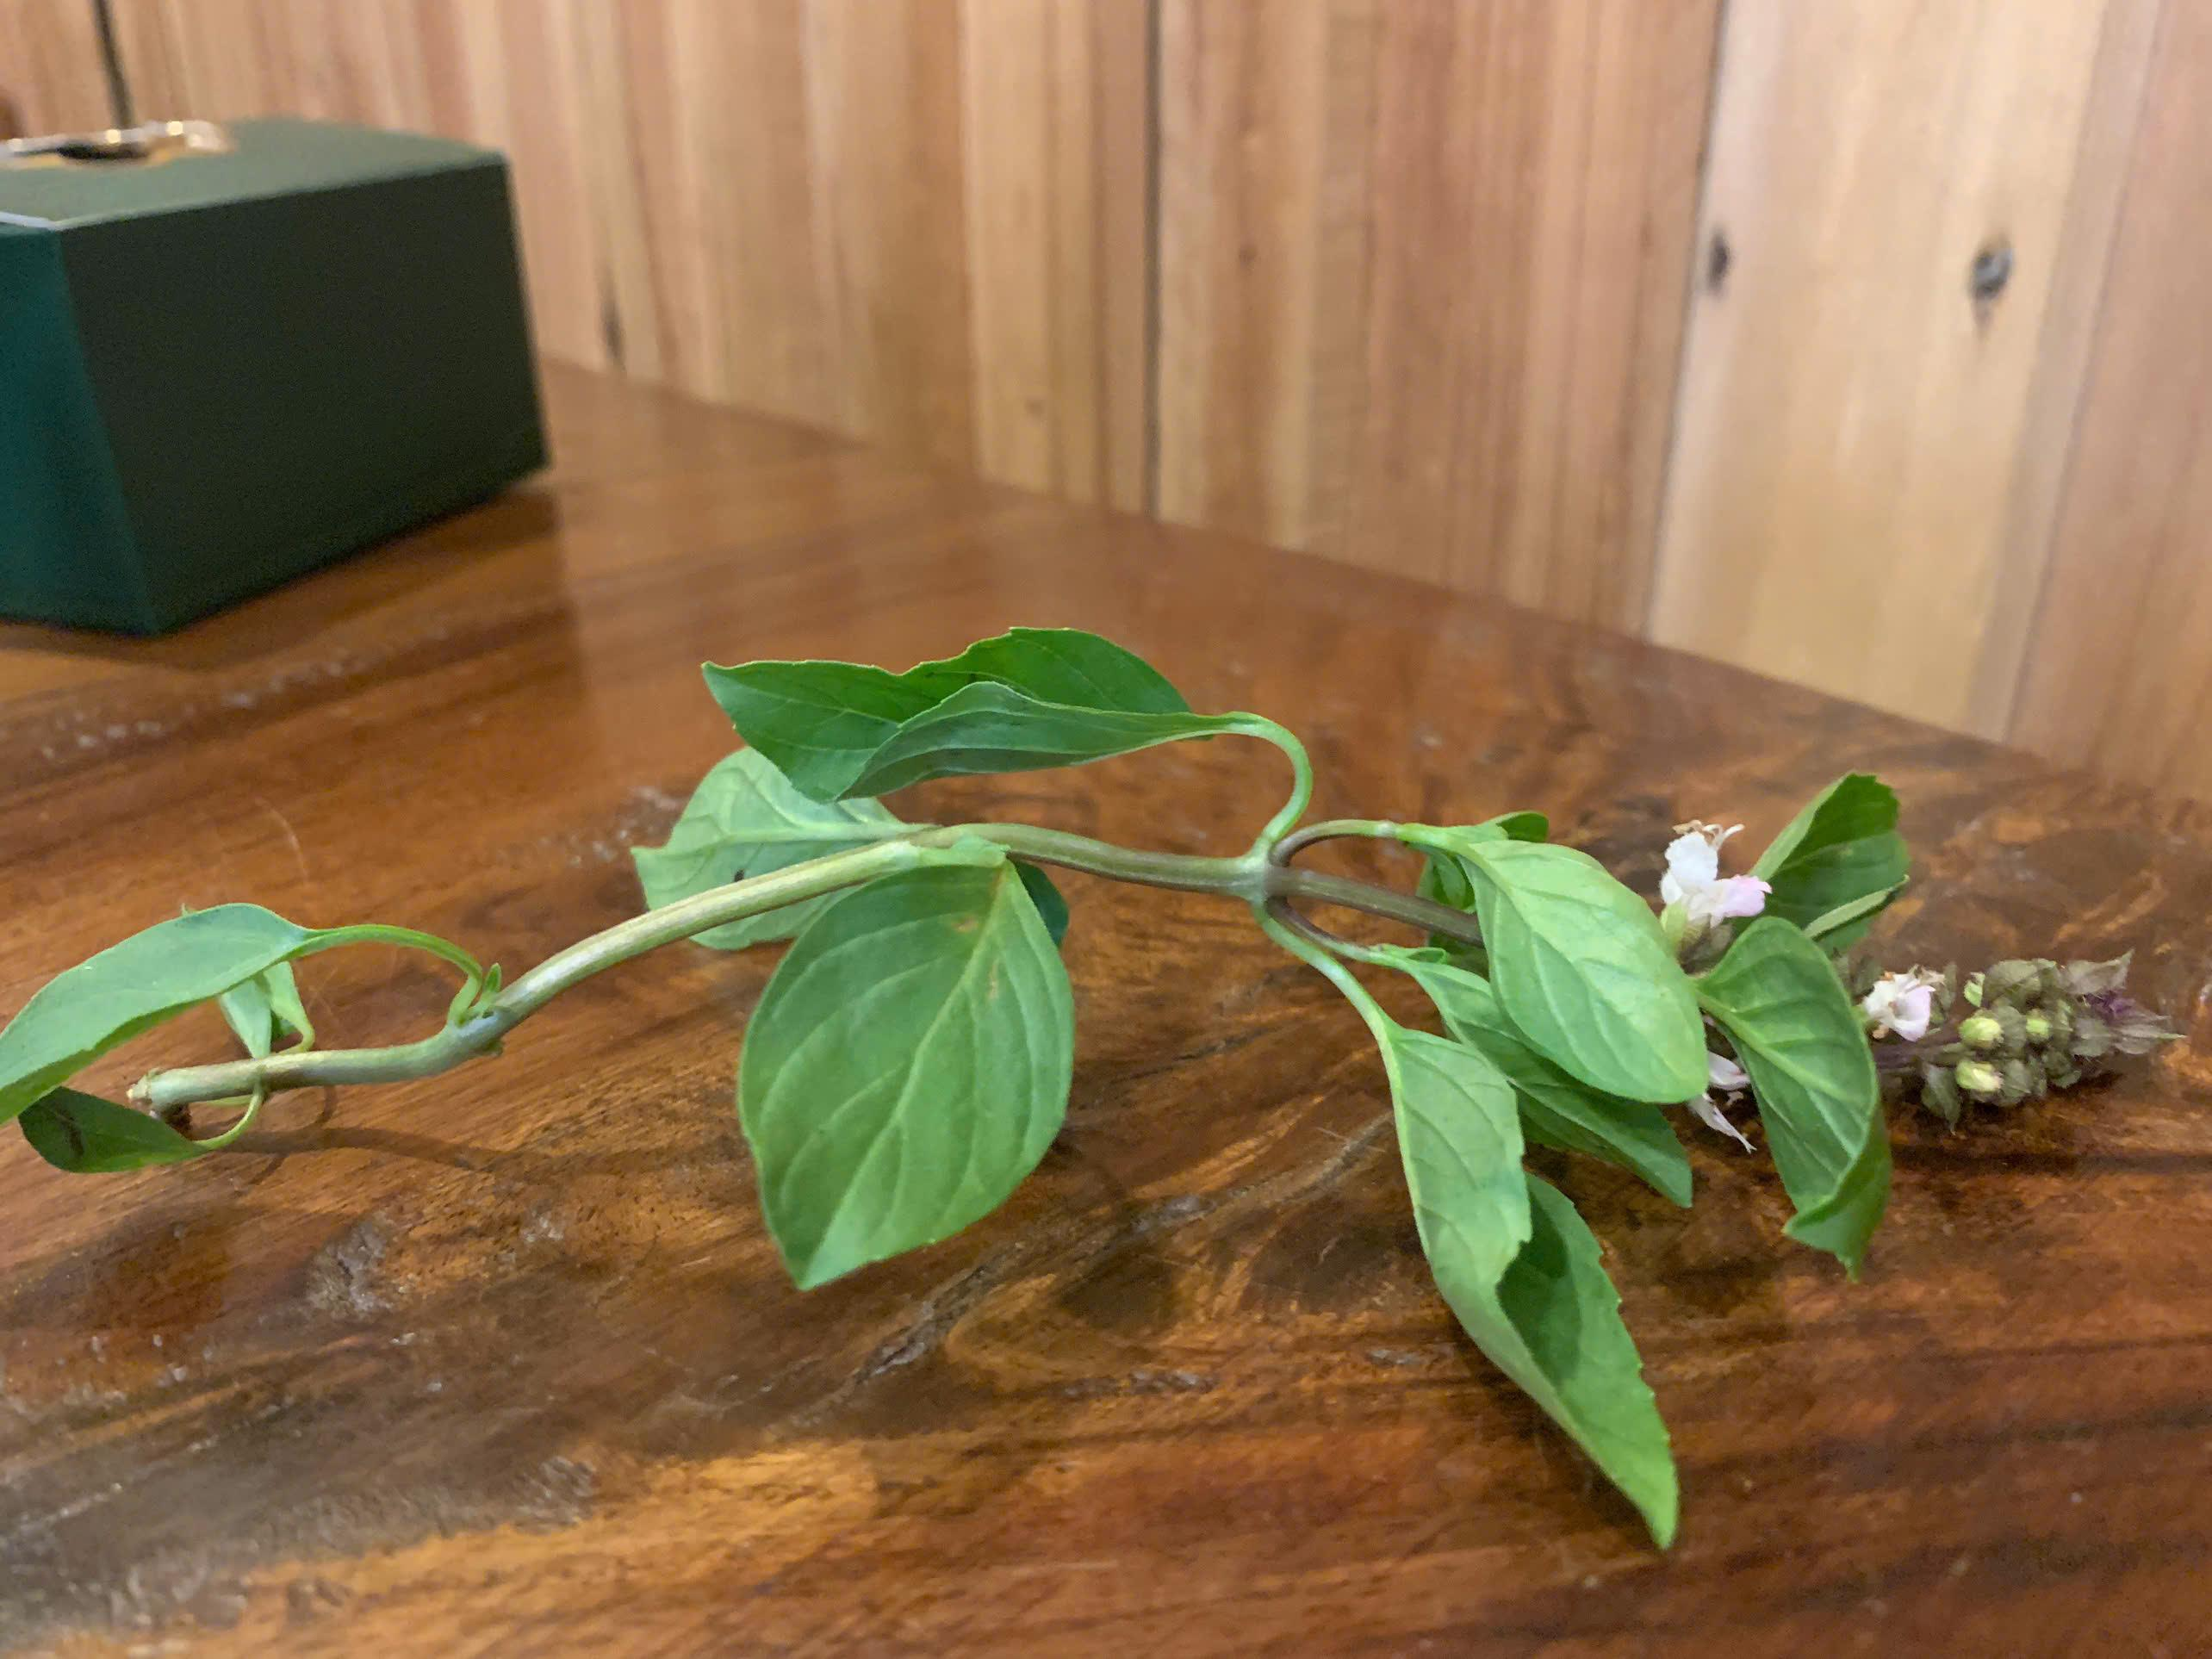Huu co: (14, 629, 1919, 1356)
